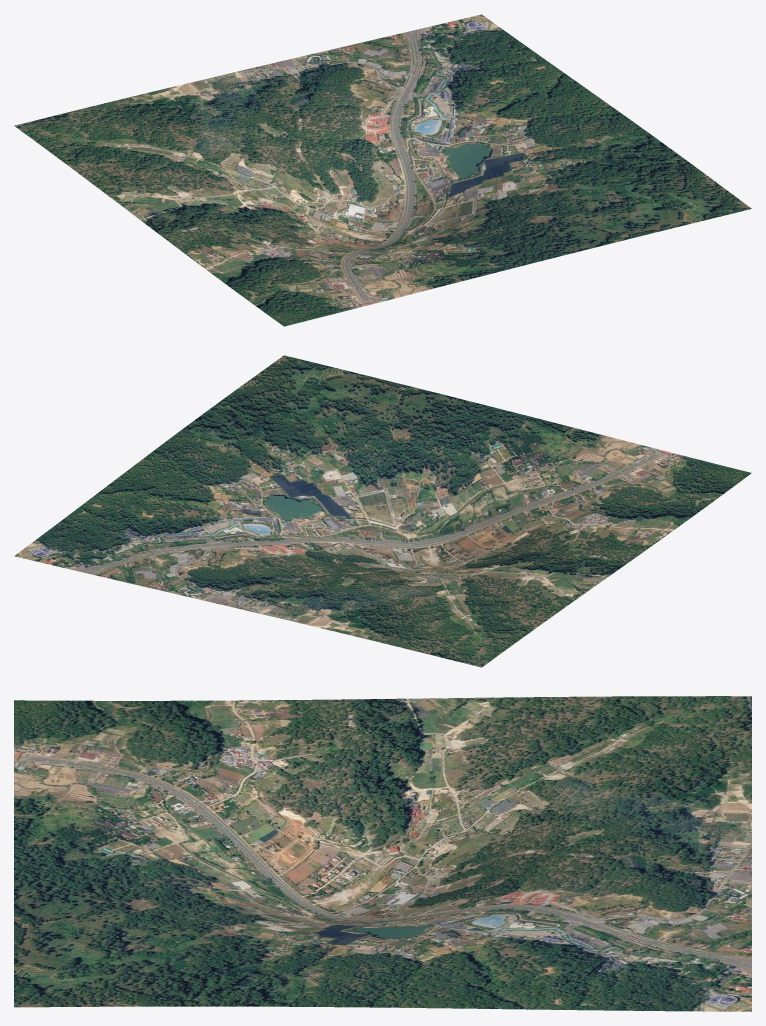
Rendered from terrain_real_T_E01_S04.glb.
3 views of the same model, one above another, from view 1: azimuth 30°, elevation 25°; view 2: azimuth 150°, elevation 25°; view 3: azimuth 270°, elevation 25° (orthographic). The views are drawn at different scales.
Visible parts, largest first — view 1: Terrain_Real_DEM_T_E01_S04; view 2: Terrain_Real_DEM_T_E01_S04; view 3: Terrain_Real_DEM_T_E01_S04.
Part boxes in pixels (<box>): Terrain_Real_DEM_T_E01_S04: <box>14,14,751,326</box>; Terrain_Real_DEM_T_E01_S04: <box>14,355,751,667</box>; Terrain_Real_DEM_T_E01_S04: <box>14,696,751,1011</box>.
Bounding box in the file's own units: 2000 × 212 × 2000.
1 material, 1 textured.
